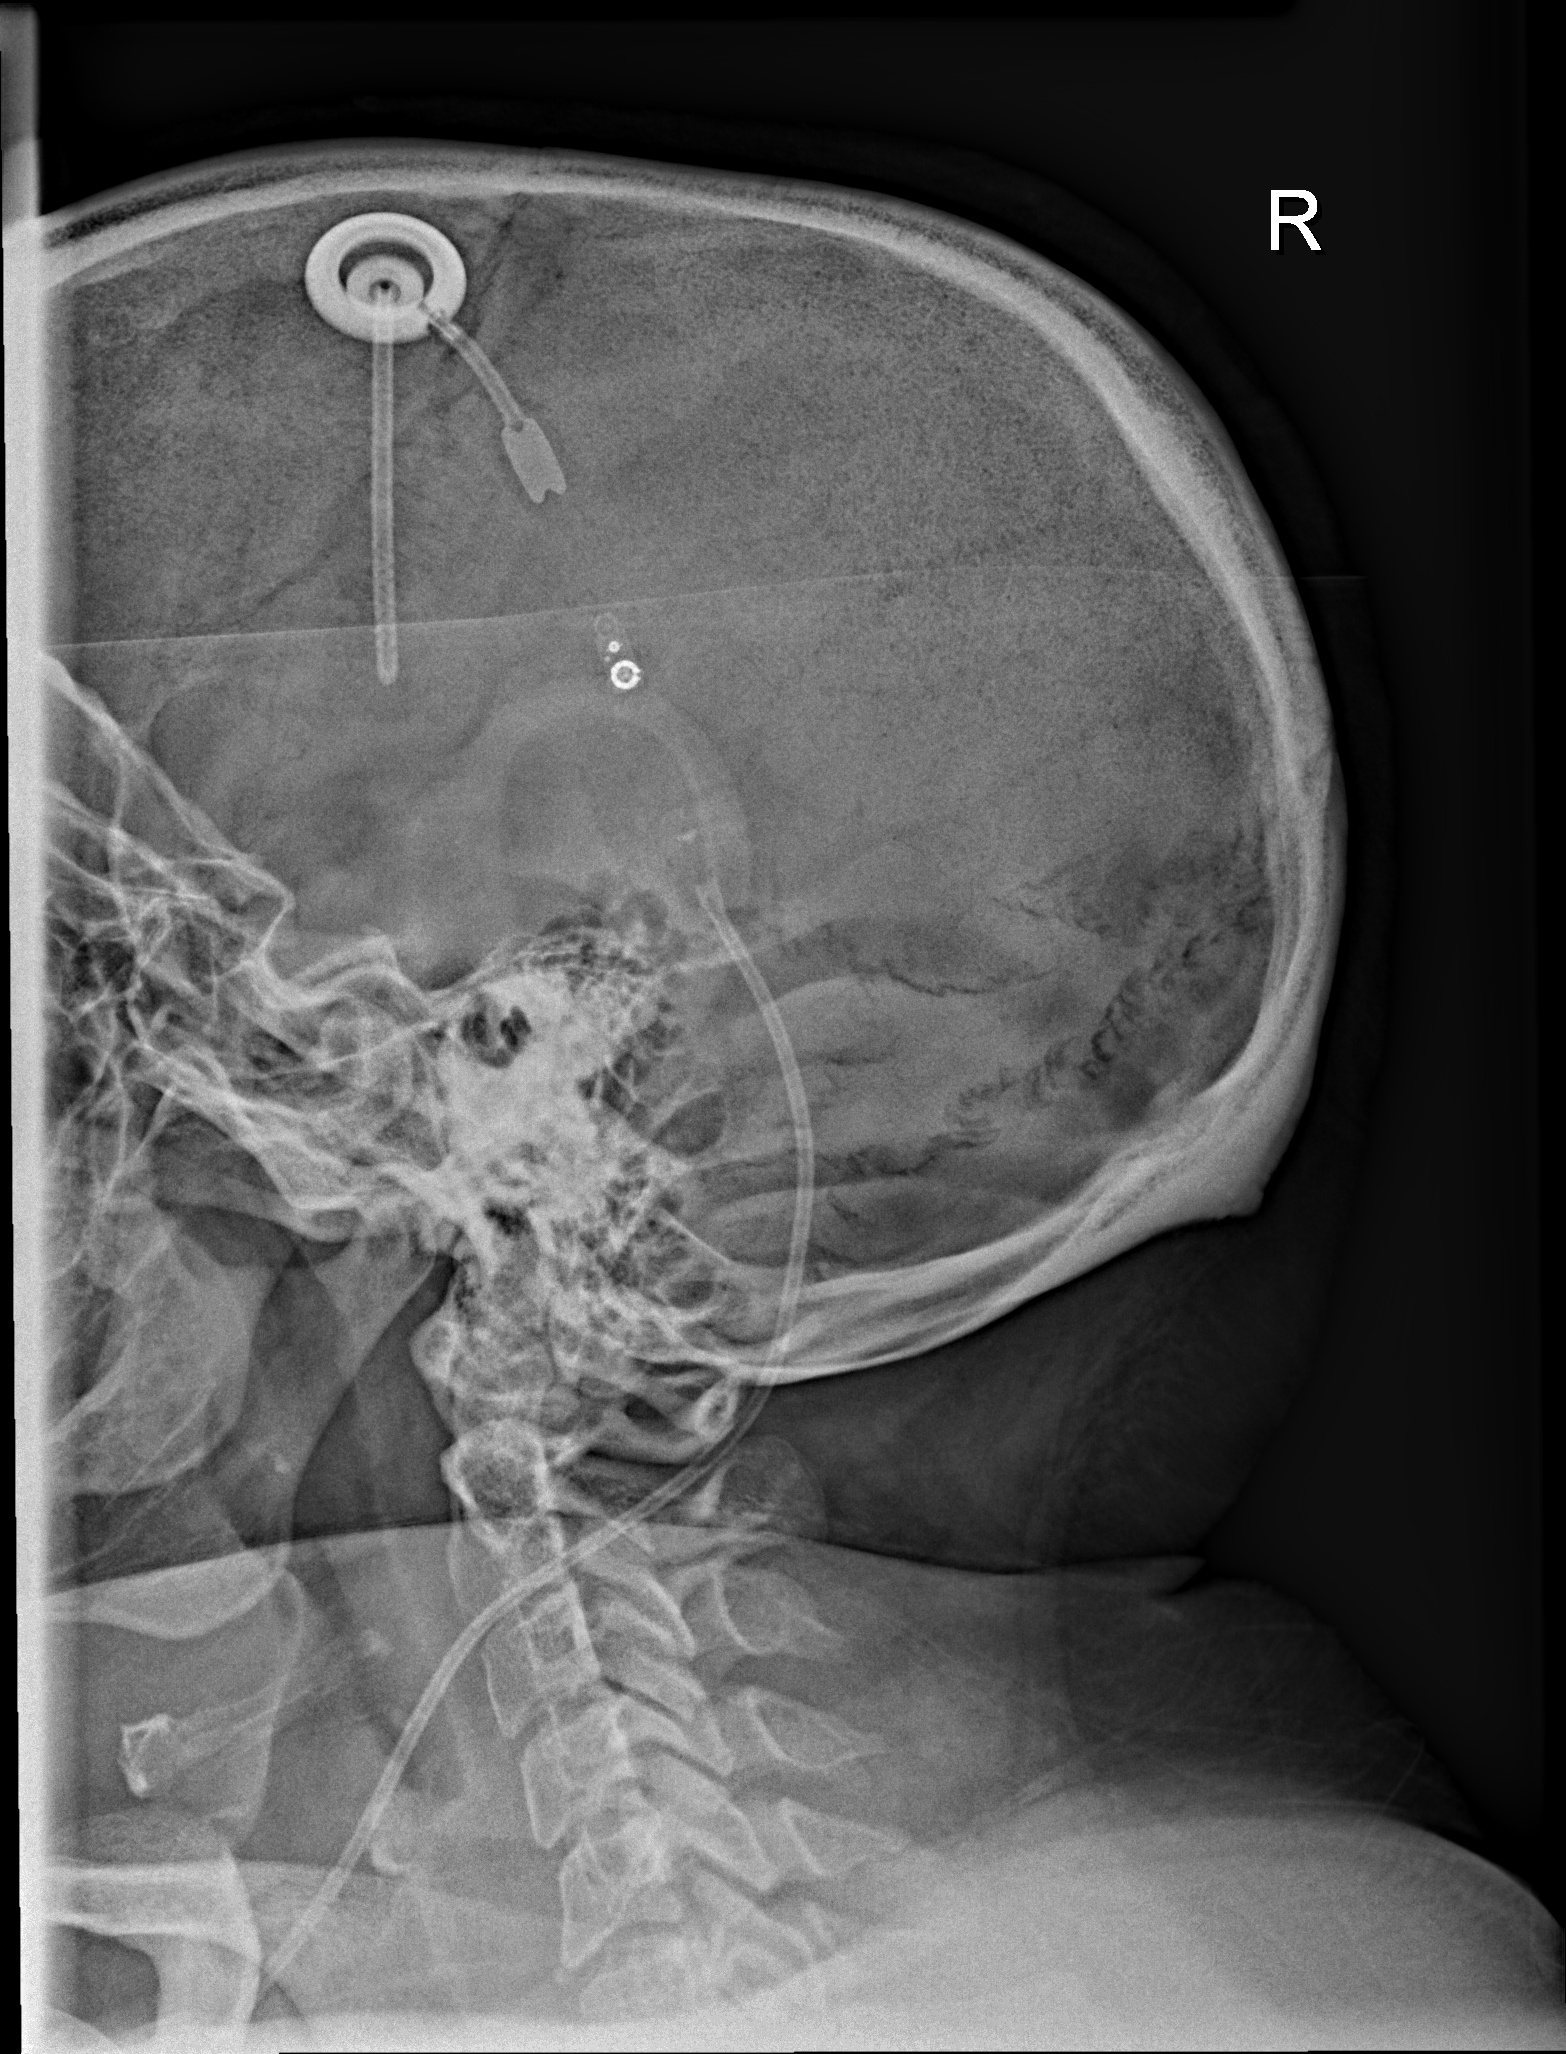Codman Hakim: (587, 628, 656, 709)
